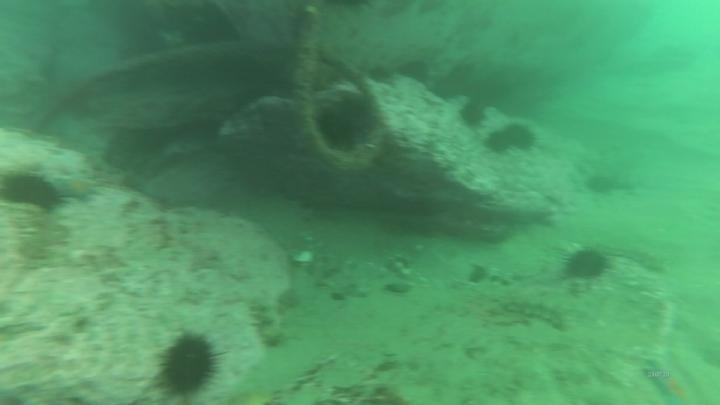echinus: (153, 329, 224, 401), (313, 90, 378, 153), (1, 168, 64, 214), (561, 244, 612, 283), (396, 56, 433, 87), (483, 124, 518, 156), (456, 98, 489, 131), (583, 170, 620, 199), (365, 62, 397, 88), (505, 123, 536, 149)
holothurian: (499, 292, 572, 333), (246, 290, 290, 351)
starfish: (641, 358, 699, 405), (52, 172, 101, 205)
